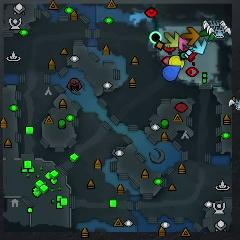p1: (164, 65, 181, 82)
p2Clone: (149, 31, 162, 44)
p4: (170, 55, 185, 70)
x1: (178, 34, 188, 51)
x2: (164, 31, 180, 48)
x3: (190, 38, 207, 54)
x4: (200, 28, 215, 42)
x5: (182, 27, 199, 45)
